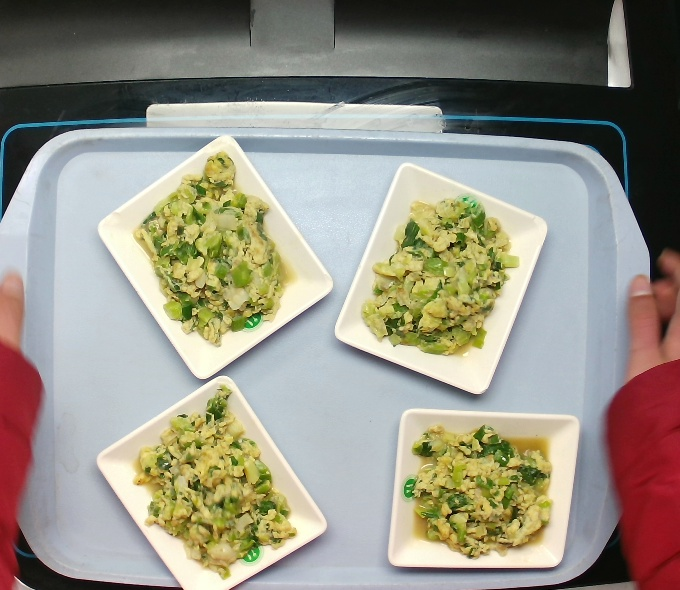wcq-SuanMiaoChaoDan: (119, 388, 294, 582), (129, 154, 301, 351), (352, 191, 531, 365), (397, 415, 561, 562)
